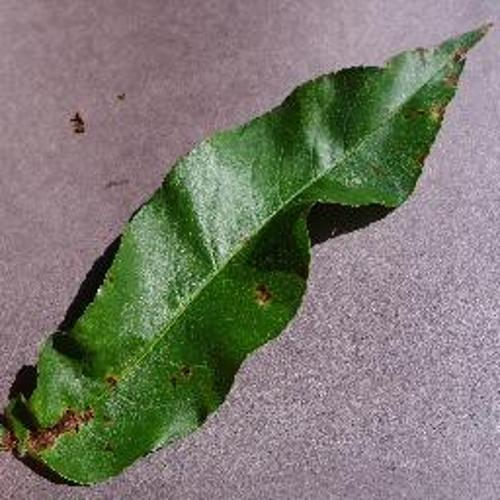Peach: (0, 24, 493, 486)
